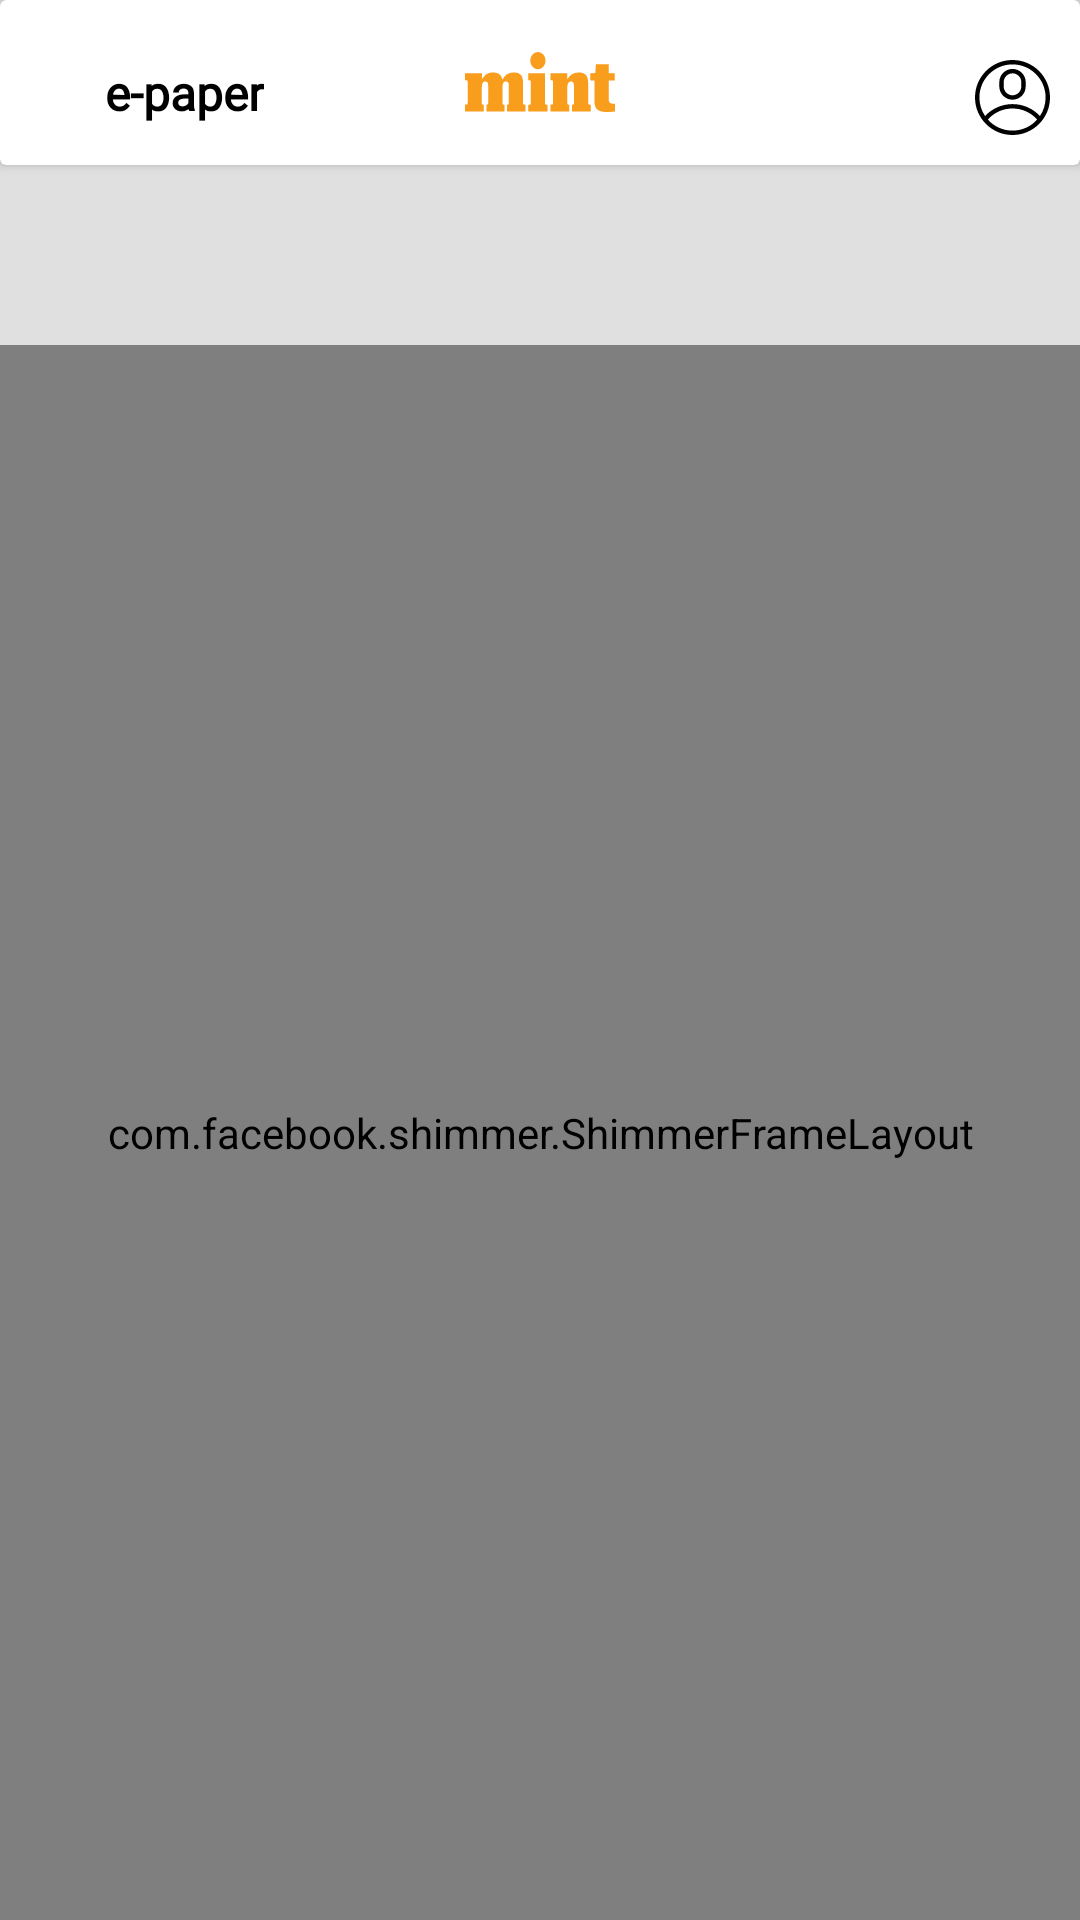

Icon bounding boxes for this 1080x1920 phone screenshot, format region(x1, y1, x2, y2):
account: region(975, 60, 1050, 135)
